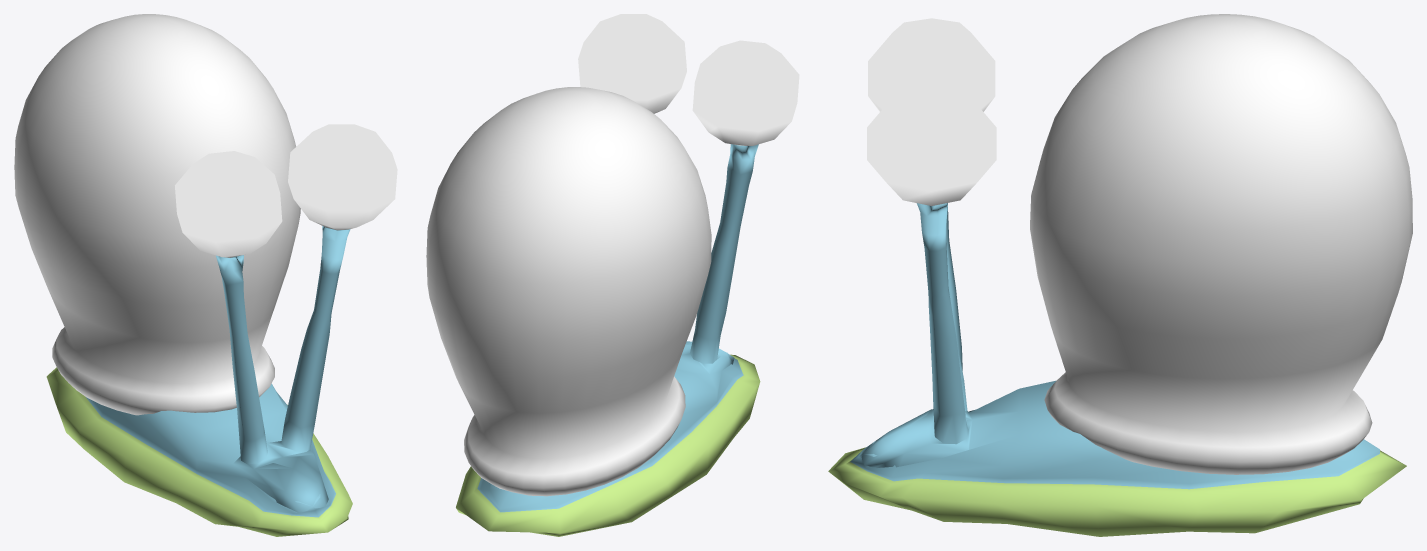
Rendered from snail.glb.
3 views of the same model, side by side, from view 1: azimuth 30°, elevation 25°; view 2: azimuth 150°, elevation 25°; view 3: azimuth 270°, elevation 25° (orthographic). The views are drawn at different scales.
Visible parts, largest first — view 1: Sphere, Cube.001; view 2: Sphere, Cube.001; view 3: Sphere, Cube.001.
Part boxes in pixels (x1,y1,x2,y2): Sphere: (14, 14, 300, 415); Cube.001: (46, 124, 397, 536); Sphere: (426, 87, 711, 496); Cube.001: (456, 14, 799, 536); Sphere: (1030, 14, 1412, 474); Cube.001: (828, 18, 1406, 536).
Bounding box in the file's own units: 1.84 × 2.95 × 3.4.
